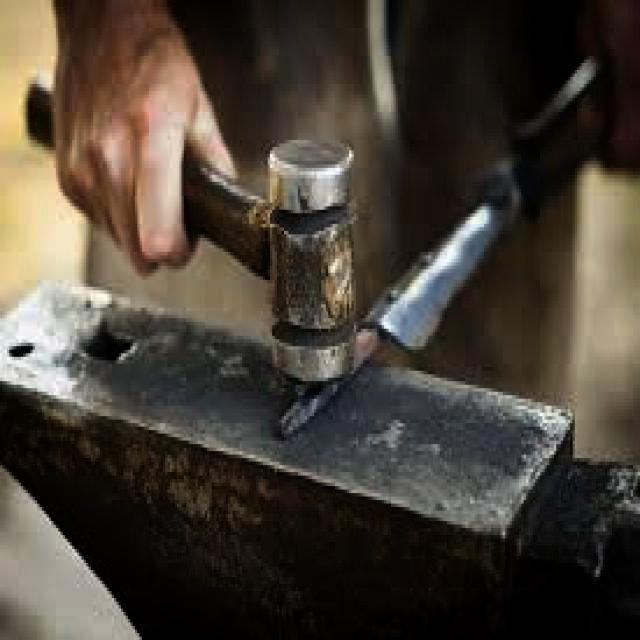hammer: (22, 66, 371, 385)
